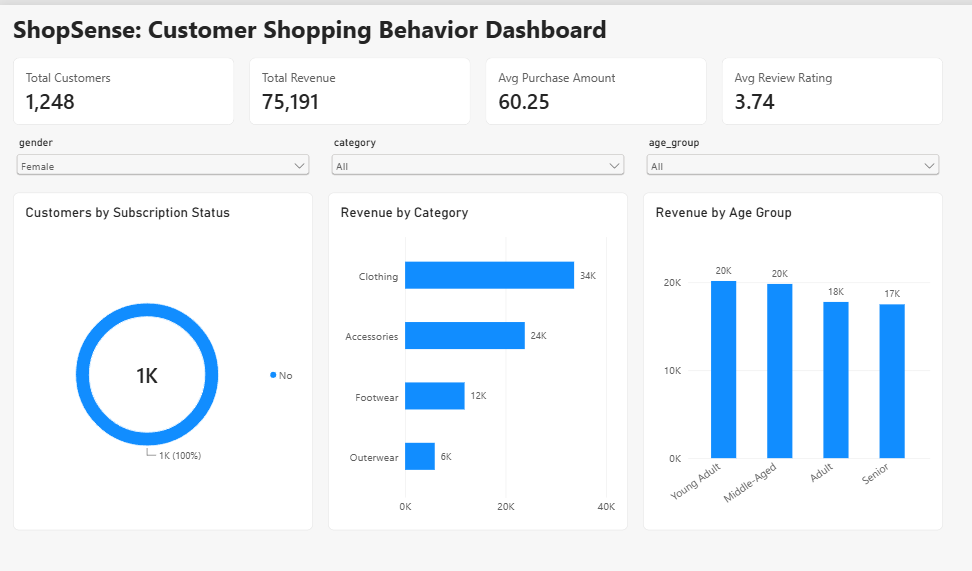

What the dashboard file says about the page in this screenshot:
{"tool":"powerbi","page":{"name":"Page 1","canvas":[1920,1080],"ordinal":0},"visuals":[{"type":"cardVisual","fields":{"Data":["customer.Total Customers Display"]},"box":[20,70,295,90],"z":1},{"type":"cardVisual","fields":{"Data":["customer.Avg Purchase Amount"]},"box":[650,70,295,90],"z":2},{"type":"cardVisual","fields":{"Data":["customer.Avg Review Rating"]},"box":[965,70,295,90],"z":3},{"type":"cardVisual","fields":{"Data":["customer.Total Revenue"]},"box":[335,70,295,90],"z":4},{"type":"donutChart","title":"Customers by Subscription Status","fields":{"Category":["customer.subscription_status"],"Y":["customer.Total Customers"]},"box":[20,250,400,450],"z":5},{"type":"clusteredBarChart","title":"Revenue by Category","fields":{"Category":["customer.category"],"Y":["customer.Total Revenue"]},"box":[440,250,400,450],"z":7},{"type":"clusteredColumnChart","title":"Revenue by Age Group","fields":{"Category":["customer.age_group"],"Y":["customer.Total Revenue"]},"box":[860,250,400,450],"z":8},{"type":"slicer","fields":{"Values":["customer.gender"]},"box":[20,175,400,60],"z":9},{"type":"slicer","fields":{"Values":["customer.category"]},"box":[440,175,400,60],"z":10},{"type":"slicer","fields":{"Values":["customer.age_group"]},"box":[860,175,400,60],"z":11},{"type":"textbox","box":[20,10,1240,50],"z":12}]}

Visuals, with their boxes on the page's 1920x1080 design canvas (x1, y1, x2, y2). These are canvas units, not pixel positions in the 972x571 screenshot, which may show the page scaled, cropped or inside an application window:
cardVisual - customer.Total Customers Display: <bbox>20, 70, 315, 160</bbox>
cardVisual - customer.Avg Purchase Amount: <bbox>650, 70, 945, 160</bbox>
cardVisual - customer.Avg Review Rating: <bbox>965, 70, 1260, 160</bbox>
cardVisual - customer.Total Revenue: <bbox>335, 70, 630, 160</bbox>
"Customers by Subscription Status" donutChart: <bbox>20, 250, 420, 700</bbox>
"Revenue by Category" clusteredBarChart: <bbox>440, 250, 840, 700</bbox>
"Revenue by Age Group" clusteredColumnChart: <bbox>860, 250, 1260, 700</bbox>
slicer - customer.gender: <bbox>20, 175, 420, 235</bbox>
slicer - customer.category: <bbox>440, 175, 840, 235</bbox>
slicer - customer.age_group: <bbox>860, 175, 1260, 235</bbox>
textbox: <bbox>20, 10, 1260, 60</bbox>
